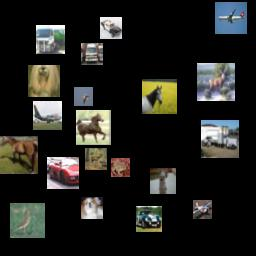airplane: (215, 2, 247, 34), (33, 101, 62, 130), (193, 200, 212, 219)
automobile: (47, 157, 79, 189), (136, 206, 162, 232), (100, 17, 122, 39)
bird: (10, 203, 45, 238), (74, 87, 93, 106)
deer: (197, 63, 235, 101), (85, 148, 107, 170)
dog: (28, 65, 60, 97), (150, 168, 176, 194), (81, 197, 103, 219)
frog: (111, 158, 130, 177)
truck: (201, 120, 239, 158), (36, 25, 65, 54), (81, 43, 103, 65)
